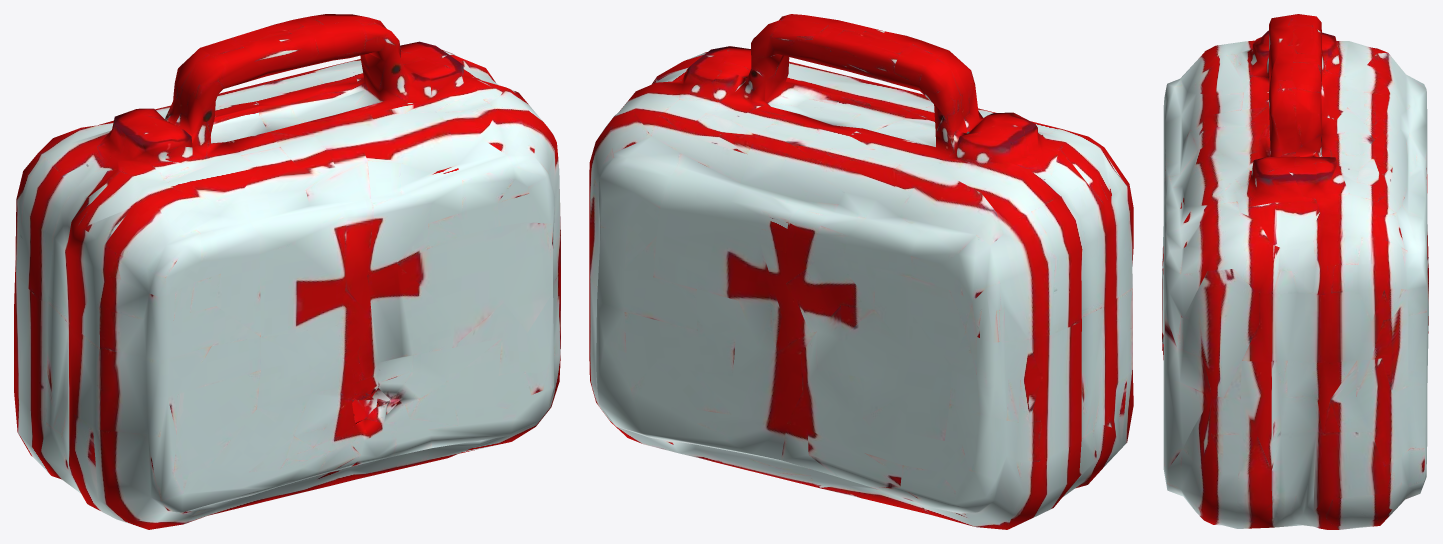
File: blood-medkit.glb
The picture shows the model from 3 angles, left to right: view 1: azimuth 30°, elevation 25°; view 2: azimuth 150°, elevation 25°; view 3: azimuth 270°, elevation 25°; orthographic projection. The views are drawn at different scales.
Size of the model in its own units: 1.91 by 1.68 by 0.9985.
1 material, 1 textured.
